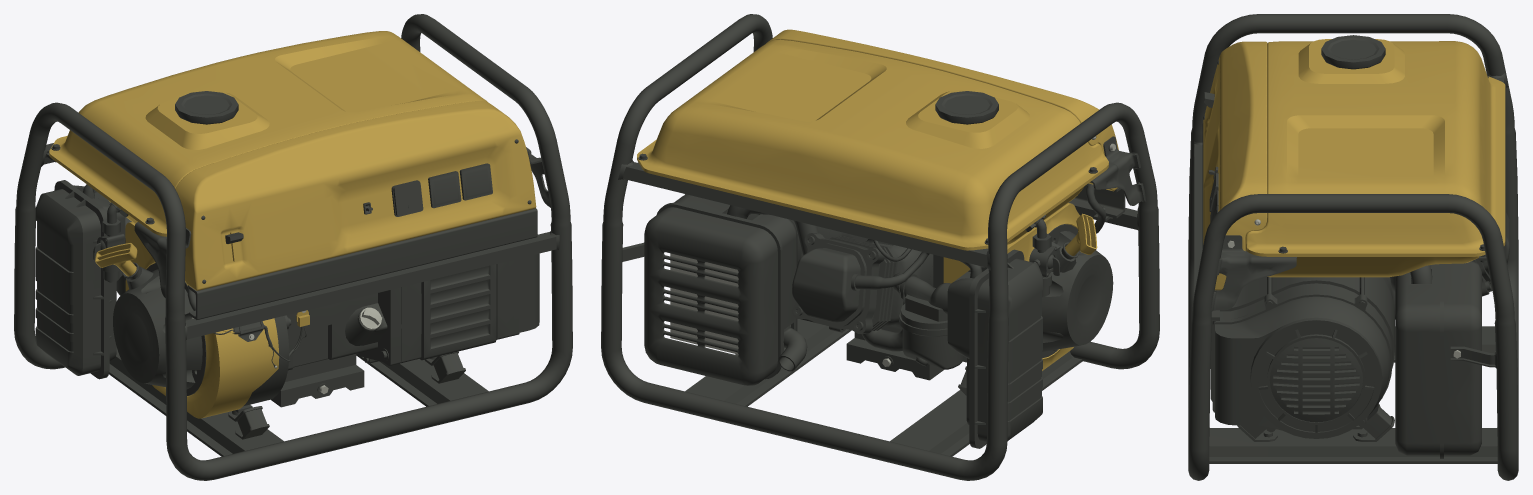
Rendered from parts.gltf.
3 views of the same model, side by side, from view 1: azimuth 30°, elevation 25°; view 2: azimuth 150°, elevation 25°; view 3: azimuth 270°, elevation 25° (orthographic).
Parts seen in each view (by area): view 1: portable_generator; view 2: portable_generator; view 3: portable_generator.
Boxes of the visible parts, x1,y1,x2,y2 form: portable_generator: [14, 14, 572, 480]; portable_generator: [601, 14, 1159, 480]; portable_generator: [1188, 14, 1518, 480].
Size of the model in its own units: 0.8183 by 0.5769 by 0.564.
